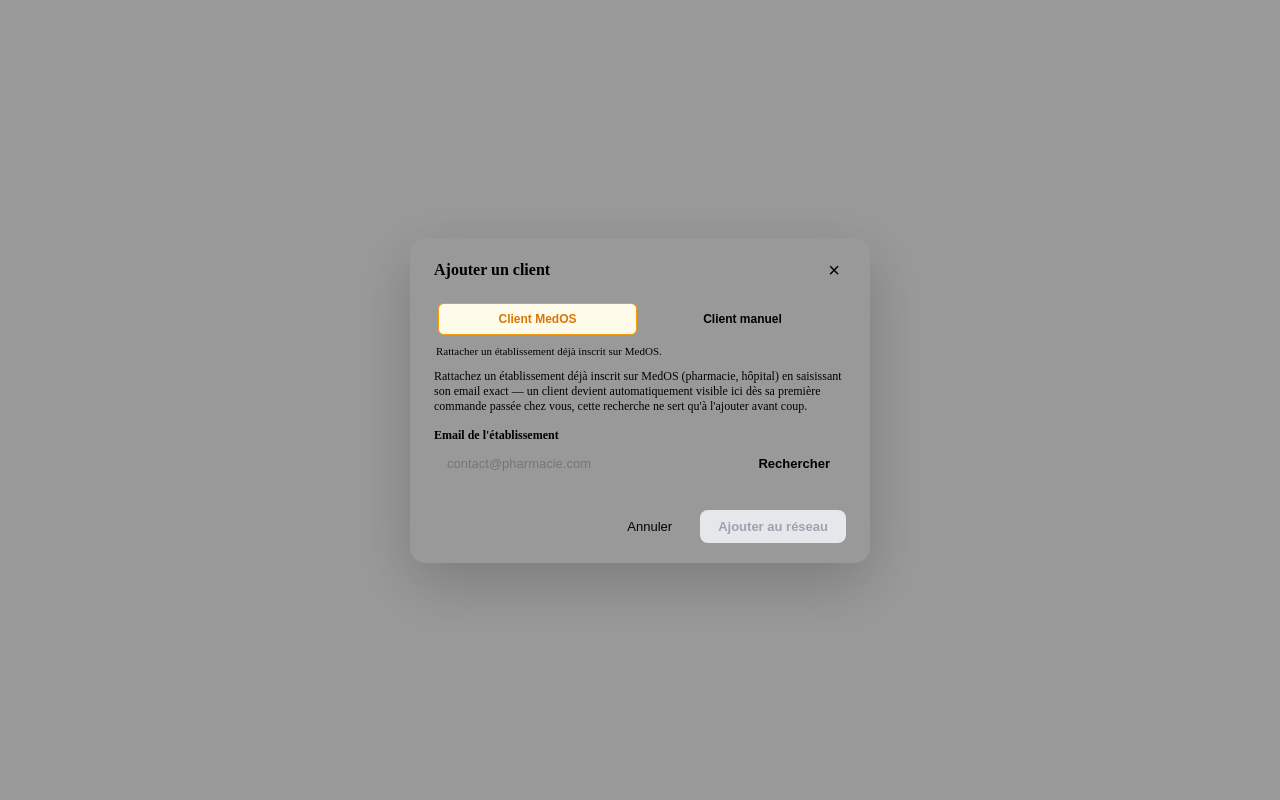
Test: le bouton "Ajouter le client" en mode manuel exige un nom mais rien d'autre
Click the button "Client manuel".
click(742, 318)  # box [643, 302, 842, 334]
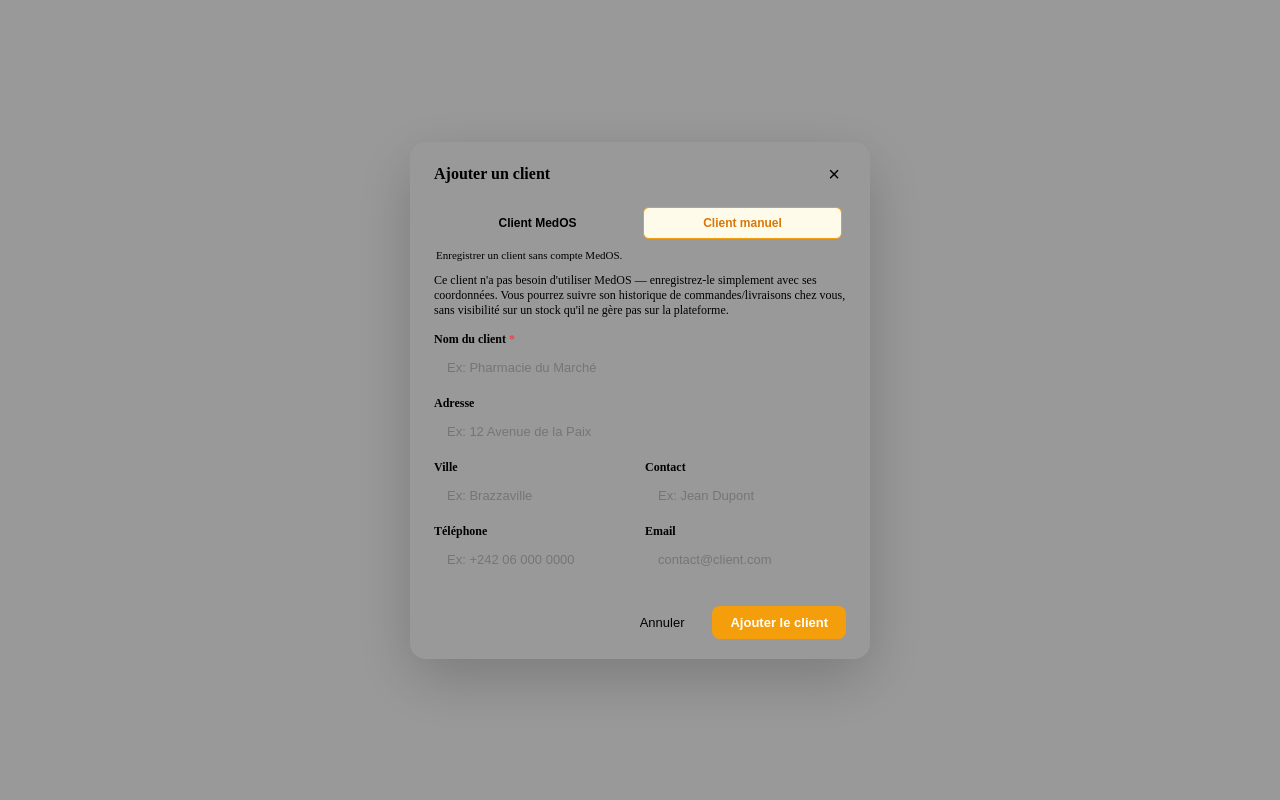
Click the button "Ajouter le client".
click(779, 622)  # box [712, 606, 846, 638]
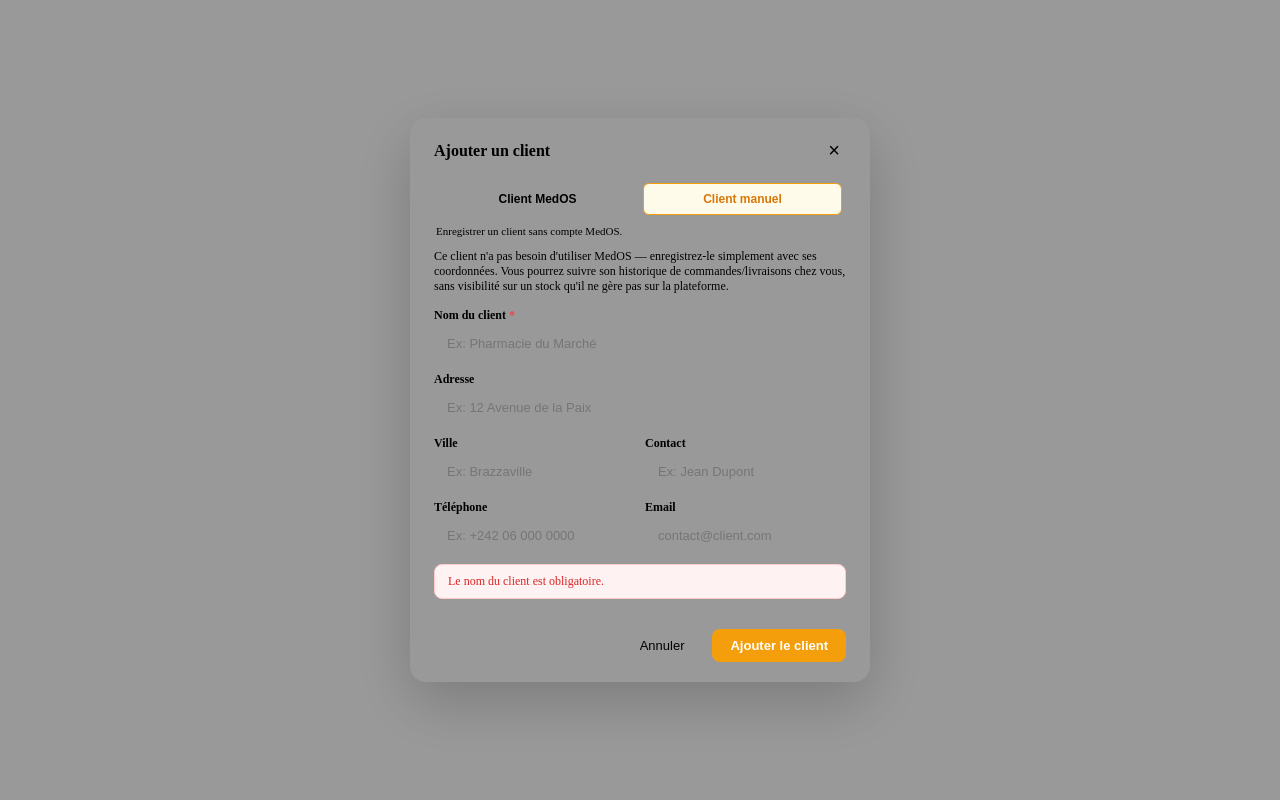
Expected: the text "Le nom du client est obligatoire." is shown, [434, 564, 846, 599]
